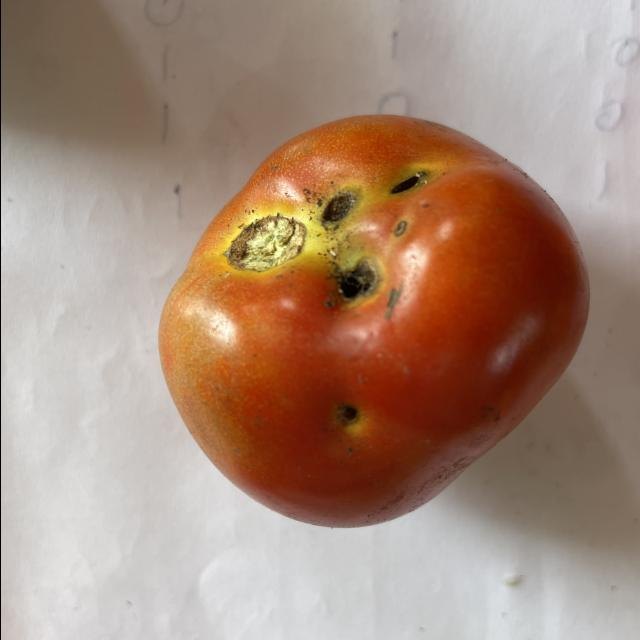fruitworm_bore: (322, 252, 390, 310), (378, 153, 436, 200), (312, 180, 364, 232), (328, 391, 368, 437)
